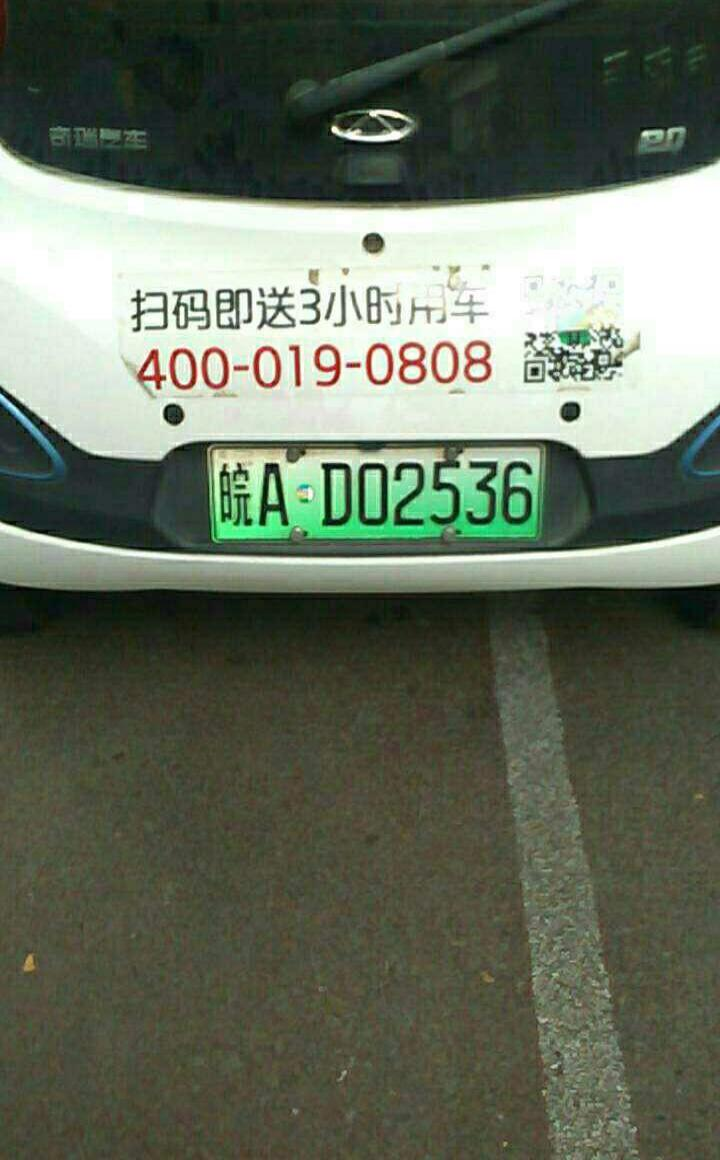car_id: (207, 439, 545, 540)
